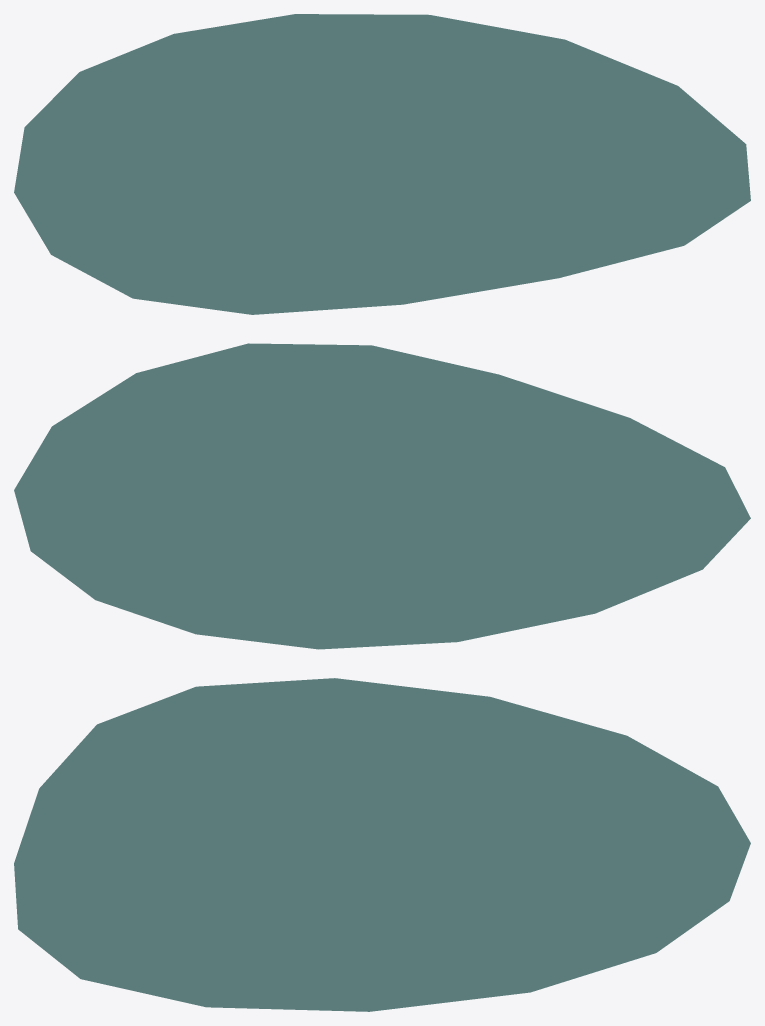
Rendered from pond-1.glb.
3 views of the same model, one above another, from view 1: azimuth 30°, elevation 25°; view 2: azimuth 150°, elevation 25°; view 3: azimuth 270°, elevation 25° (orthographic). The views are drawn at different scales.
Parts seen in each view (by area): view 1: pond-1-mesh; view 2: pond-1-mesh; view 3: pond-1-mesh.
Part boxes in pixels (x1=…): pond-1-mesh: x1=14, y1=14, x2=750, y2=314; pond-1-mesh: x1=14, y1=343, x2=750, y2=649; pond-1-mesh: x1=14, y1=678, x2=750, y2=1011.
Bounding box in the file's own units: 180 × 0 × 168.
